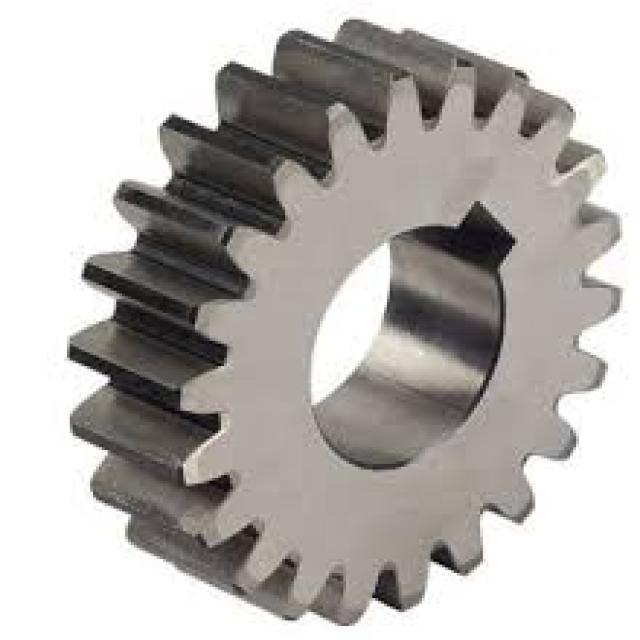Milling: (1, 1, 635, 638)
